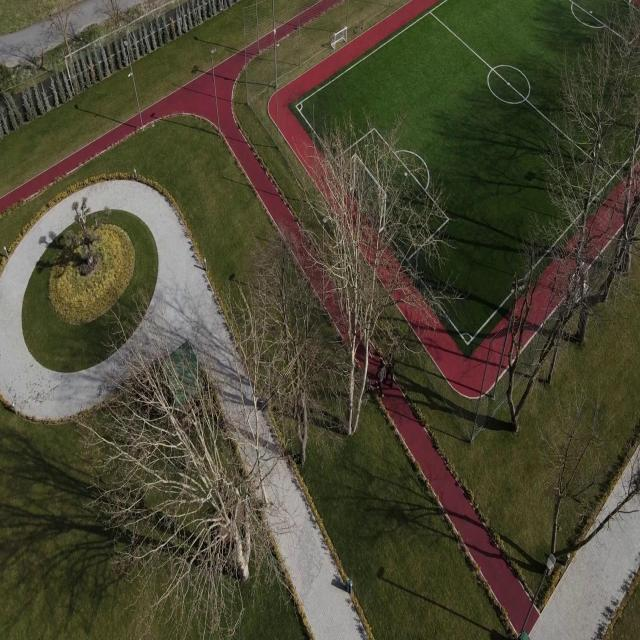p3rson: (384, 350, 396, 389), (375, 358, 386, 399)
